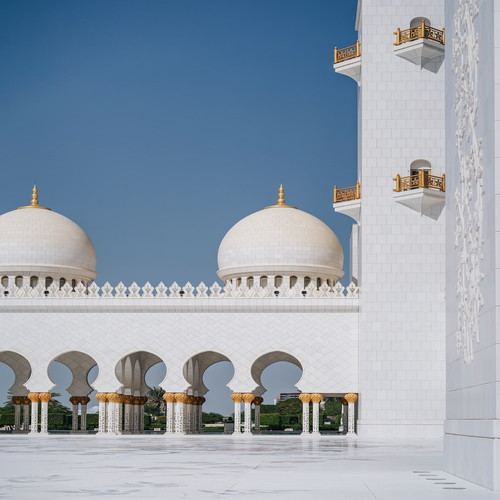Mosque: (2, 159, 350, 458)
